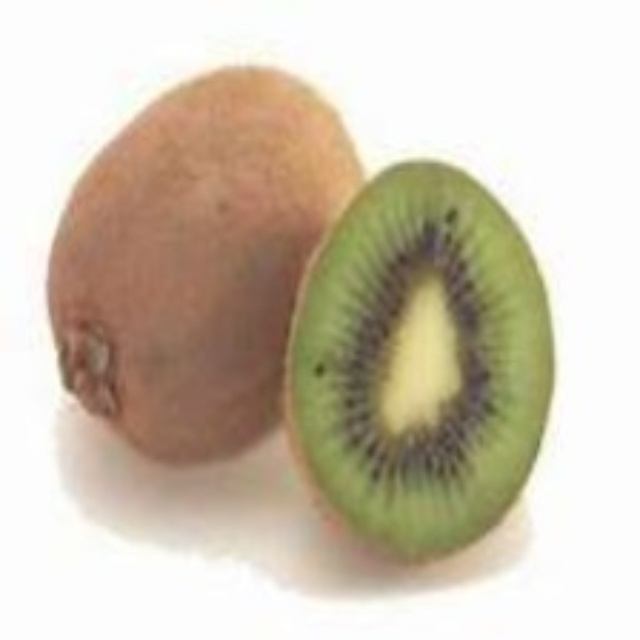kiwi: (48, 63, 344, 476), (299, 154, 553, 564)
